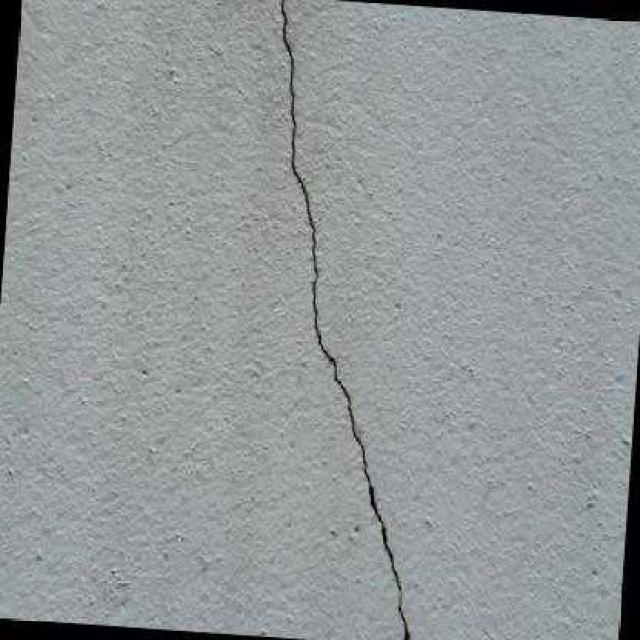D00: (279, 0, 413, 640)
